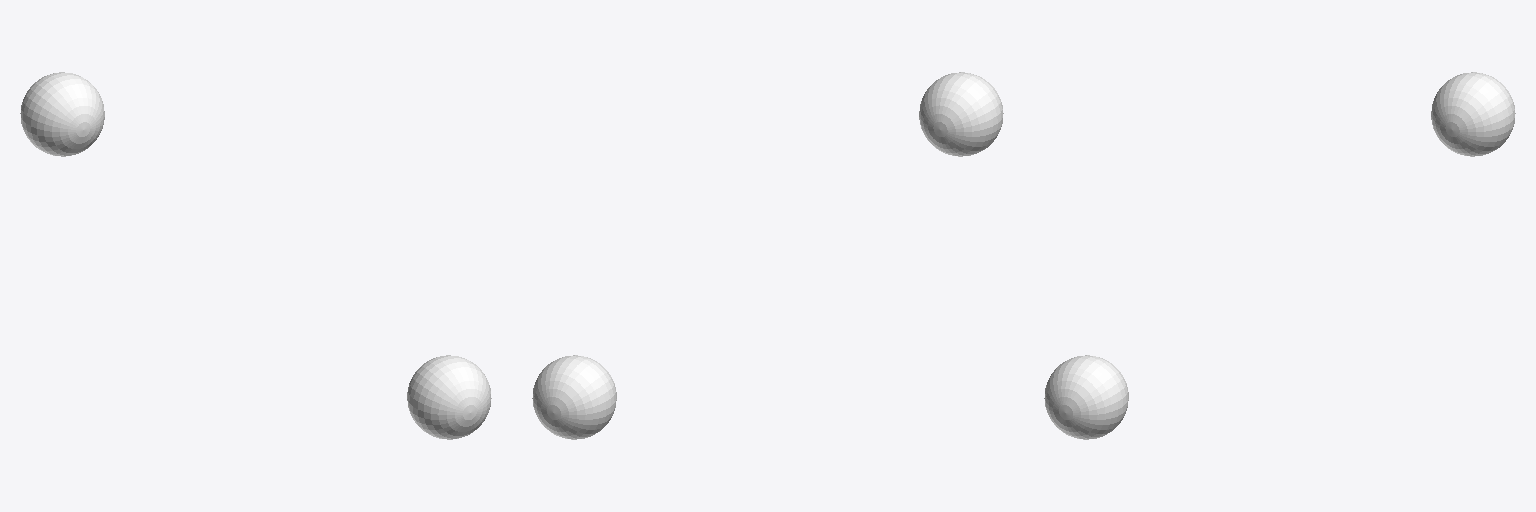
The robot description file, URDF, robot "tb3_waffle_pi":
<?xml version="1.0" ?>
<!-- =================================================================================== -->
<!-- |    This document was autogenerated by xacro from src/bots/xacro/tb3_waffle_pi.xacro | -->
<!-- |    EDITING THIS FILE BY HAND IS NOT RECOMMENDED                                 | -->
<!-- =================================================================================== -->
<robot name="tb3_waffle_pi">
  <!-- ****************************************************** Turtlebot 3 Waffle pi Robot **********************************************  -->
  <!-- [author]                                                                                                                  -->
  <!-- March 2022                                                                                                                         -->
  <!-- *********************************************************************************************************************************  -->
  <!-- ****************************************************** Includes *****************************************************************  -->
  <material name="red">
    <color rgba="1.0 0.0 0.0 1.0"/>
  </material>
  <material name="green">
    <color rgba="0.0 1.0 0.0 1.0"/>
  </material>
  <material name="blue">
    <color rgba="0.0 0.0 1.0 1.0"/>
  </material>
  <material name="black">
    <color rgba="0.3 0.3 0.3 1.0"/>
  </material>
  <material name="white">
    <color rgba="1.0 1.0 1.0 1.0"/>
  </material>
  <material name="grey">
    <color rgba="0.2 0.2 0.2 1.0"/>
  </material>
  <material name="orange">
    <color rgba="1.0 0.4235294117647059 0.0392156862745098 1.0"/>
  </material>
  <material name="brown">
    <color rgba="0.8705882352941177 0.8117647058823529 0.7647058823529411 1.0"/>
  </material>
  <material name="yellow">
    <color rgba="1.0 1.0 0.0 1.0"/>
  </material>
  <!-- ****************************************************** Turtlebot 3 Waffle pi Robot **********************************************  -->
  <!-- [author]                                                                                                                  -->
  <!-- March 2022                                                                                                                         -->
  <!-- *********************************************************************************************************************************  -->
  <!-- ****************************************************** Base Link ****************************************************************  -->
  <gazebo reference="base_link">
    <material>Gazebo/Blue</material>
  </gazebo>
  <!-- ****************************************************** Wheel Left Link **********************************************************  -->
  <gazebo reference="wheel_left_link">
    <material>Gazebo/FlatBlack</material>
  </gazebo>
  <!-- ****************************************************** Wheel Right Link *********************************************************  -->
  <gazebo reference="wheel_right_link">
    <material>Gazebo/FlatBlack</material>
  </gazebo>
  <!-- ****************************************************** Caster Back Right Link ***************************************************  -->
  <gazebo reference="caster_back_right_link">
    <material>Gazebo/White</material>
  </gazebo>
  <!-- ****************************************************** Caster Back Left Link ****************************************************  -->
  <gazebo reference="caster_back_left_link">
    <material>Gazebo/White</material>
  </gazebo>
  <!-- ****************************************************** Laser Scan Link **********************************************************  -->
  <gazebo reference="base_scan">
    <material>Gazebo/Green</material>
  </gazebo>
  <!-- *********************************************************************************************************************************  -->
  <!-- Gazebo                                     -->
  <!-- ****************************************************** Base Footprint Link ******************************************************  -->
  <link name="base_footprint"/>
  <!-- ****************************************************** Base Joint ***************************************************************  -->
  <joint name="base_joint" type="fixed">
    <parent link="base_footprint"/>
    <child link="base_link"/>
    <origin rpy="0 0 0" xyz="0 0 0.010"/>
  </joint>
  <!-- ****************************************************** Base Link ****************************************************************  -->
  <link name="base_link">
    <visual>
      <origin rpy="0 0 0" xyz="-0.064 0 0.0"/>
      <geometry>
        <mesh filename="package://bots/meshes/tb3/waffle_pi_base.stl" scale="0.001 0.001 0.001"/>
      </geometry>
      <material name="blue"/>
    </visual>
    <collision>
      <origin rpy="0 0 0" xyz="-0.064 0 0.047"/>
      <geometry>
        <box size="0.266 0.266 0.094"/>
      </geometry>
    </collision>
    <inertial>
      <origin rpy="0 0 0" xyz="0 0 0"/>
      <mass value="1.3729096e+00"/>
      <inertia ixx="8.7002718e-03" ixy="-4.7576583e-05" ixz="1.1160499e-04" iyy="8.6195418e-03" iyz="-3.5422299e-06" izz="1.4612727e-02"/>
    </inertial>
  </link>
  <!-- ****************************************************** Wheel Left Joint *********************************************************  -->
  <joint name="wheel_left_joint" type="continuous">
    <parent link="base_link"/>
    <child link="wheel_left_link"/>
    <origin rpy="-1.57 0 0" xyz="0.0 0.144 0.023"/>
    <axis xyz="0 0 1"/>
  </joint>
  <!-- ****************************************************** Wheel Left Link **********************************************************  -->
  <link name="wheel_left_link">
    <visual>
      <origin rpy="1.57 0 0" xyz="0 0 0"/>
      <geometry>
        <mesh filename="package://bots/meshes/tb3/left_tire.stl" scale="0.001 0.001 0.001"/>
      </geometry>
      <material name="black"/>
    </visual>
    <collision>
      <origin rpy="0 0 0" xyz="0 0 0"/>
      <geometry>
        <cylinder length="0.018" radius="0.033"/>
      </geometry>
    </collision>
    <inertial>
      <origin xyz="0 0 0"/>
      <mass value="2.8498940e-02"/>
      <inertia ixx="1.1175580e-05" ixy="-4.2369783e-11" ixz="-5.9381719e-09" iyy="1.1192413e-05" iyz="-1.4400107e-11" izz="2.0712558e-05"/>
    </inertial>
  </link>
  <!-- ****************************************************** Wheel Right Joint ********************************************************  -->
  <joint name="wheel_right_joint" type="continuous">
    <parent link="base_link"/>
    <child link="wheel_right_link"/>
    <origin rpy="-1.57 0 0" xyz="0.0 -0.144 0.023"/>
    <axis xyz="0 0 1"/>
  </joint>
  <!-- ****************************************************** Wheel Right Link *********************************************************  -->
  <link name="wheel_right_link">
    <visual>
      <origin rpy="1.57 0 0" xyz="0 0 0"/>
      <geometry>
        <mesh filename="package://bots/meshes/tb3/right_tire.stl" scale="0.001 0.001 0.001"/>
      </geometry>
      <material name="black"/>
    </visual>
    <collision>
      <origin rpy="0 0 0" xyz="0 0 0"/>
      <geometry>
        <cylinder length="0.018" radius="0.033"/>
      </geometry>
    </collision>
    <inertial>
      <origin xyz="0 0 0"/>
      <mass value="2.8498940e-02"/>
      <inertia ixx="1.1175580e-05" ixy="-4.2369783e-11" ixz="-5.9381719e-09" iyy="1.1192413e-05" iyz="-1.4400107e-11" izz="2.0712558e-05"/>
    </inertial>
  </link>
  <!-- ****************************************************** Caster Back Right Joint **************************************************  -->
  <joint name="caster_back_right_joint" type="fixed">
    <parent link="base_link"/>
    <child link="caster_back_right_link"/>
    <origin rpy="-1.57 0 0" xyz="-0.177 -0.064 -0.004"/>
  </joint>
  <!-- ****************************************************** Caster Back Right Link ***************************************************  -->
  <link name="caster_back_right_link">
    <visual>
      <geometry>
        <sphere radius="0.007"/>
      </geometry>
      <material name="white"/>
    </visual>
    <collision>
      <origin rpy="0 0 0" xyz="0 0.001 0"/>
      <geometry>
        <box size="0.030 0.009 0.020"/>
      </geometry>
    </collision>
    <inertial>
      <origin xyz="0 0 0"/>
      <mass value="0.005"/>
      <inertia ixx="0.001" ixy="0.0" ixz="0.0" iyy="0.001" iyz="0.0" izz="0.001"/>
    </inertial>
  </link>
  <!-- ****************************************************** Caster Back Left Joint ***************************************************  -->
  <joint name="caster_back_left_joint" type="fixed">
    <parent link="base_link"/>
    <child link="caster_back_left_link"/>
    <origin rpy="-1.57 0 0" xyz="-0.177 0.064 -0.004"/>
  </joint>
  <!-- ****************************************************** Caster Back Left Link ****************************************************  -->
  <link name="caster_back_left_link">
    <visual>
      <geometry>
        <sphere radius="0.007"/>
      </geometry>
      <material name="white"/>
    </visual>
    <collision>
      <origin rpy="0 0 0" xyz="0 0.001 0"/>
      <geometry>
        <box size="0.030 0.009 0.020"/>
      </geometry>
    </collision>
    <inertial>
      <origin xyz="0 0 0"/>
      <mass value="0.005"/>
      <inertia ixx="0.001" ixy="0.0" ixz="0.0" iyy="0.001" iyz="0.0" izz="0.001"/>
    </inertial>
  </link>
  <!-- ****************************************************** IMU Joint ****************************************************************  -->
  <joint name="imu_joint" type="fixed">
    <parent link="base_link"/>
    <child link="imu_link"/>
    <origin rpy="0 0 0" xyz="0.0 0 0.068"/>
  </joint>
  <!-- ****************************************************** IMU Link *****************************************************************  -->
  <link name="imu_link"/>
  <!-- ****************************************************** Laser Scan Joint *********************************************************  -->
  <joint name="scan_joint" type="fixed">
    <parent link="base_link"/>
    <child link="base_scan"/>
    <origin rpy="0 0 0" xyz="-0.064 0 0.122"/>
  </joint>
  <!-- ****************************************************** Laser Scan Link **********************************************************  -->
  <link name="base_scan">
    <visual>
      <origin rpy="0 0 0" xyz="0 0 0.0"/>
      <geometry>
        <mesh filename="package://bots/meshes/tb3/lds.stl" scale="0.001 0.001 0.001"/>
      </geometry>
      <material name="green"/>
    </visual>
    <collision>
      <origin rpy="0 0 0" xyz="0.015 0 -0.0065"/>
      <geometry>
        <cylinder length="0.0315" radius="0.055"/>
      </geometry>
    </collision>
    <inertial>
      <mass value="0.114"/>
      <origin xyz="0 0 0"/>
      <inertia ixx="0.001" ixy="0.0" ixz="0.0" iyy="0.001" iyz="0.0" izz="0.001"/>
    </inertial>
  </link>
  <!-- ****************************************************** Camera Joint ************************************************************* -->
  <joint name="camera_joint" type="fixed">
    <origin rpy="0 0 0" xyz="0.073 -0.011 0.084"/>
    <parent link="base_link"/>
    <child link="camera_link"/>
  </joint>
  <!-- ****************************************************** Camera Link **************************************************************  -->
  <link name="camera_link">
    <collision>
      <origin rpy="0 0 0" xyz="0.005 0.011 0.013"/>
      <geometry>
        <box size="0.015 0.030 0.027"/>
      </geometry>
    </collision>
  </link>
  <!-- ****************************************************** RGB Camera Joint *********************************************************  -->
  <joint name="camera_rgb_joint" type="fixed">
    <origin rpy="0 0 0" xyz="0.003 0.011 0.009"/>
    <parent link="camera_link"/>
    <child link="camera_rgb_frame"/>
  </joint>
  <!-- ****************************************************** RGB Camera Frame Link ****************************************************  -->
  <link name="camera_rgb_frame"/>
  <!-- ****************************************************** RGB Camera Optical Joint *************************************************  -->
  <joint name="camera_rgb_optical_joint" type="fixed">
    <origin rpy="-1.57 0 -1.57" xyz="0 0 0"/>
    <parent link="camera_rgb_frame"/>
    <child link="camera_rgb_optical_frame"/>
  </joint>
  <!-- ****************************************************** RGB Camera Optical Link **************************************************  -->
  <link name="camera_rgb_optical_frame"/>
  <!-- *********************************************************************************************************************************  -->
</robot>

--- Facts derived from the render (not from the file) ---
The picture shows the robot from 3 angles, left to right: view 1: azimuth 30°, elevation 25°; view 2: azimuth 150°, elevation 25°; view 3: azimuth 330°, elevation 25°; orthographic projection.
Model tb3_waffle_pi with 11 links and 10 joints (2 continuous, 8 fixed), rooted at base_footprint, posed every joint at zero.
Visible links, largest first — view 1: caster_back_right_link, caster_back_left_link; view 2: caster_back_right_link, caster_back_left_link; view 3: caster_back_right_link, caster_back_left_link.
Link boxes in pixels (x1,y1,x2,y2): caster_back_right_link: [407, 355, 491, 439]; caster_back_left_link: [20, 72, 104, 156]; caster_back_right_link: [919, 72, 1003, 156]; caster_back_left_link: [532, 355, 616, 439]; caster_back_right_link: [1044, 355, 1128, 439]; caster_back_left_link: [1431, 72, 1515, 156].
Size in the robot's own frame: 0.014 by 0.142 by 0.014 metres.
0 mesh visuals loaded from 4 distinct referenced files (none loaded); not drawn: 4 (reference not matched to a file when rendering).